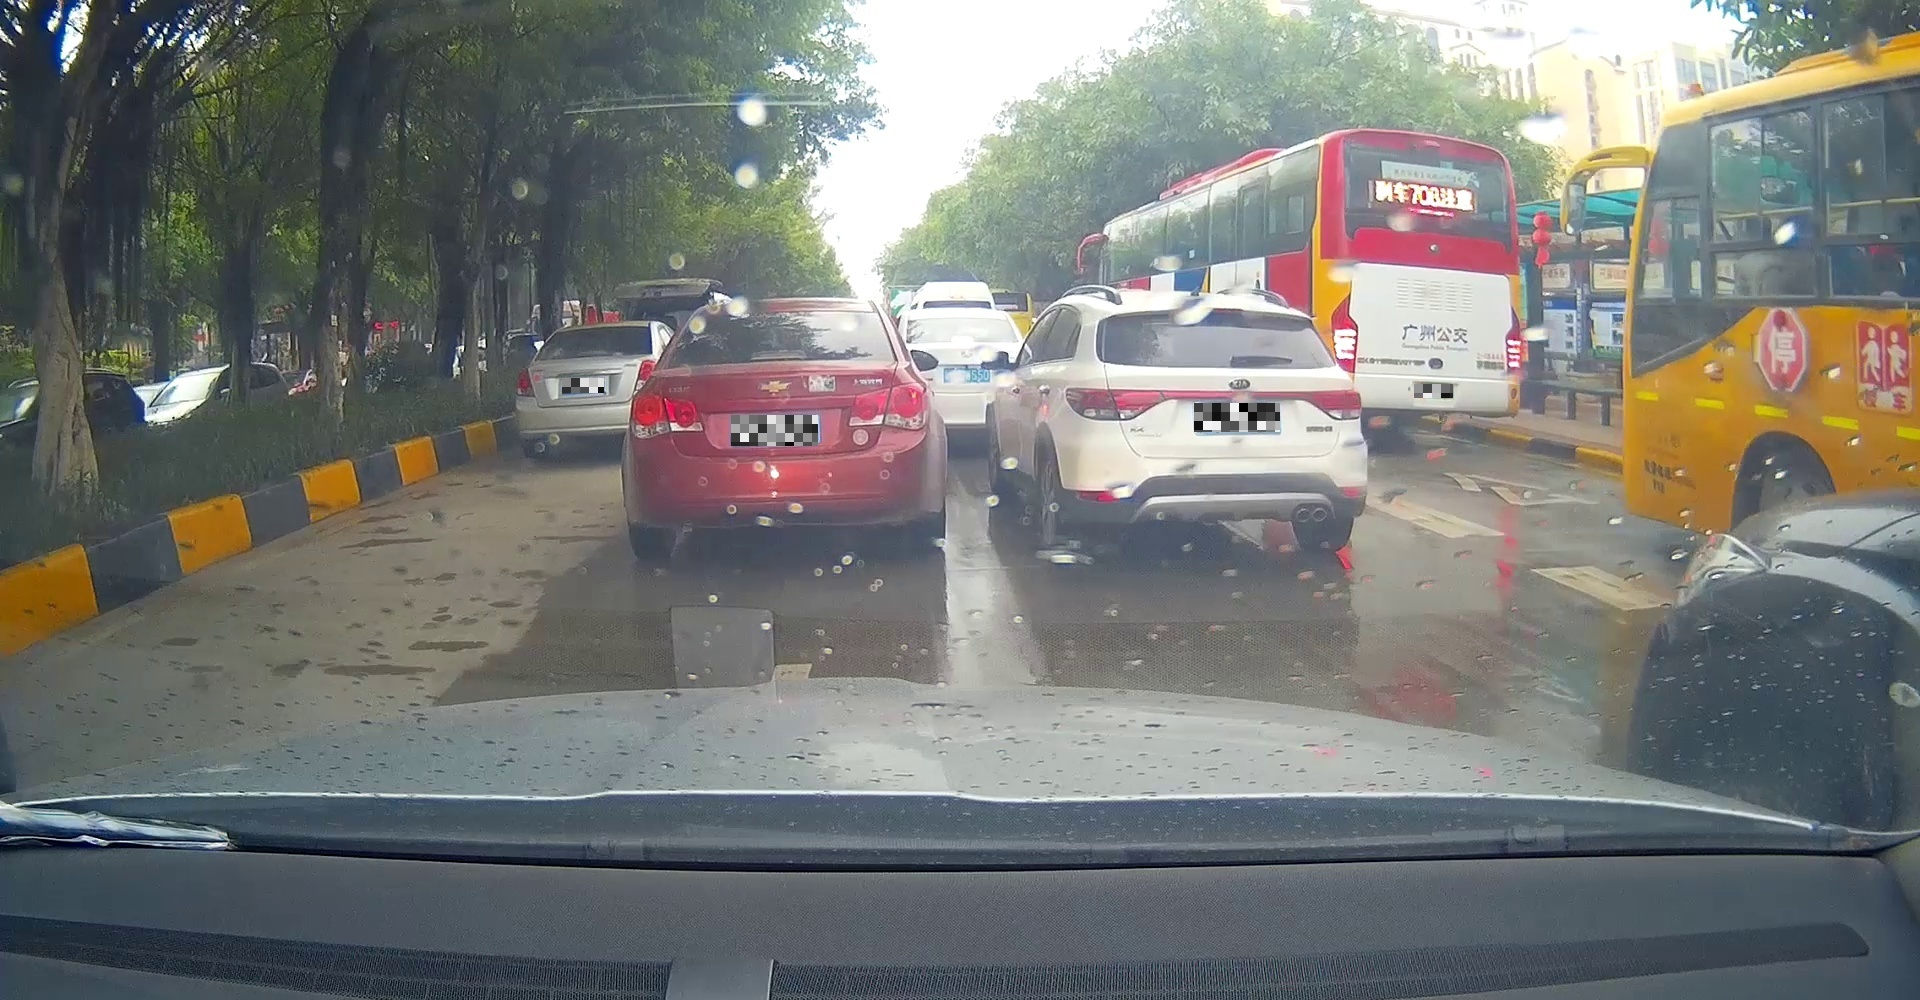L_light: (629, 392, 703, 438), (1065, 388, 1163, 420)
R_light: (850, 382, 927, 430), (1300, 390, 1363, 420)
T_light: (752, 350, 806, 360), (1201, 308, 1239, 316)
day-no: (622, 299, 947, 563), (1062, 297, 1368, 551)
plate_1: (563, 378, 604, 393)
plate_2: (731, 415, 818, 445)
plate_3: (1194, 404, 1280, 431)
plate_4: (1415, 385, 1453, 398)
